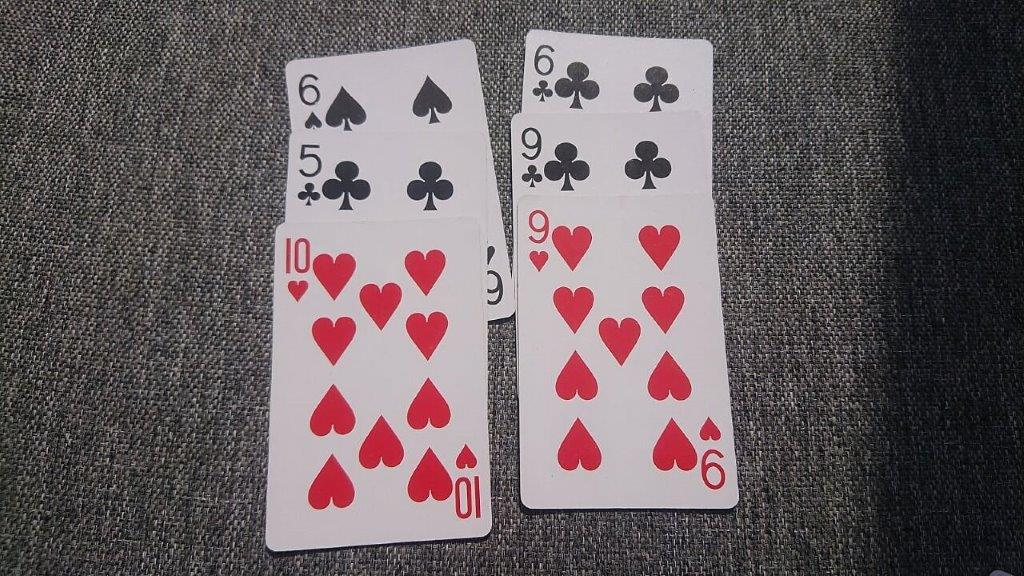10H: (279, 232, 313, 306)
5C: (293, 140, 325, 210)
6C: (529, 39, 558, 104)
6S: (295, 69, 325, 130)
9C: (519, 124, 545, 190)
9H: (522, 205, 551, 276)
